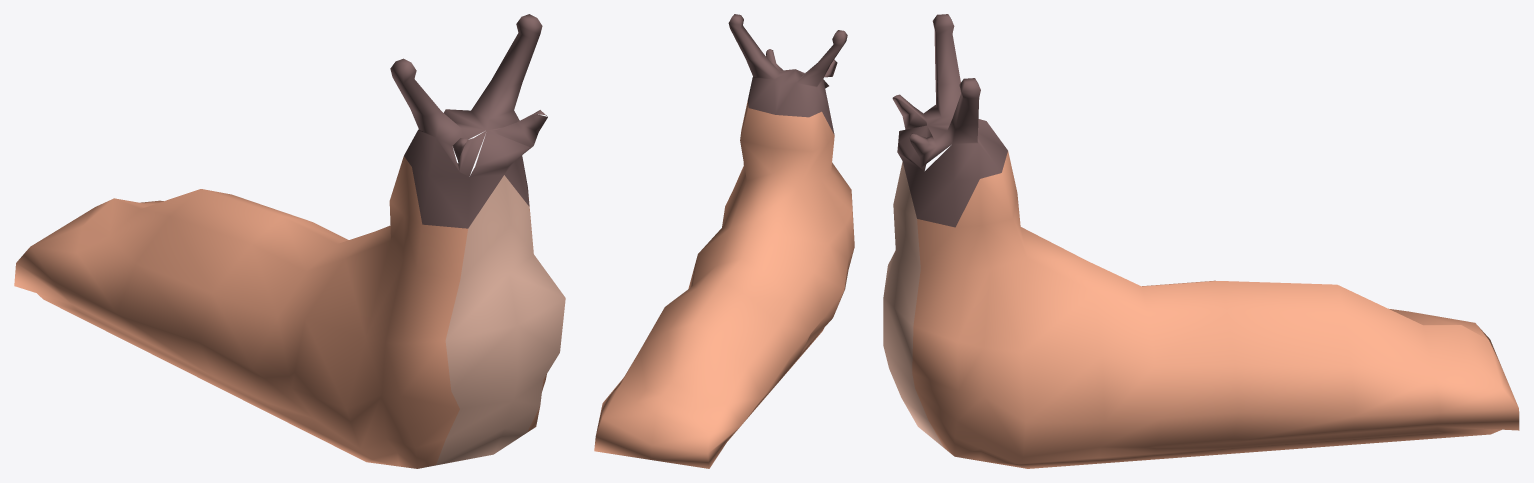
The picture shows the model from 3 angles, left to right: view 1: azimuth 30°, elevation 25°; view 2: azimuth 150°, elevation 25°; view 3: azimuth 270°, elevation 25°; orthographic projection. The views are drawn at different scales.
Visible parts, largest first — view 1: Slug.1; view 2: Slug.1; view 3: Slug.1.
Boxes of the visible parts, box(x1,y1,x2,y2) form: Slug.1: box(14, 14, 565, 468); Slug.1: box(594, 14, 854, 468); Slug.1: box(883, 14, 1519, 468).
Bounding box in the file's own units: 200 × 312 × 456.
